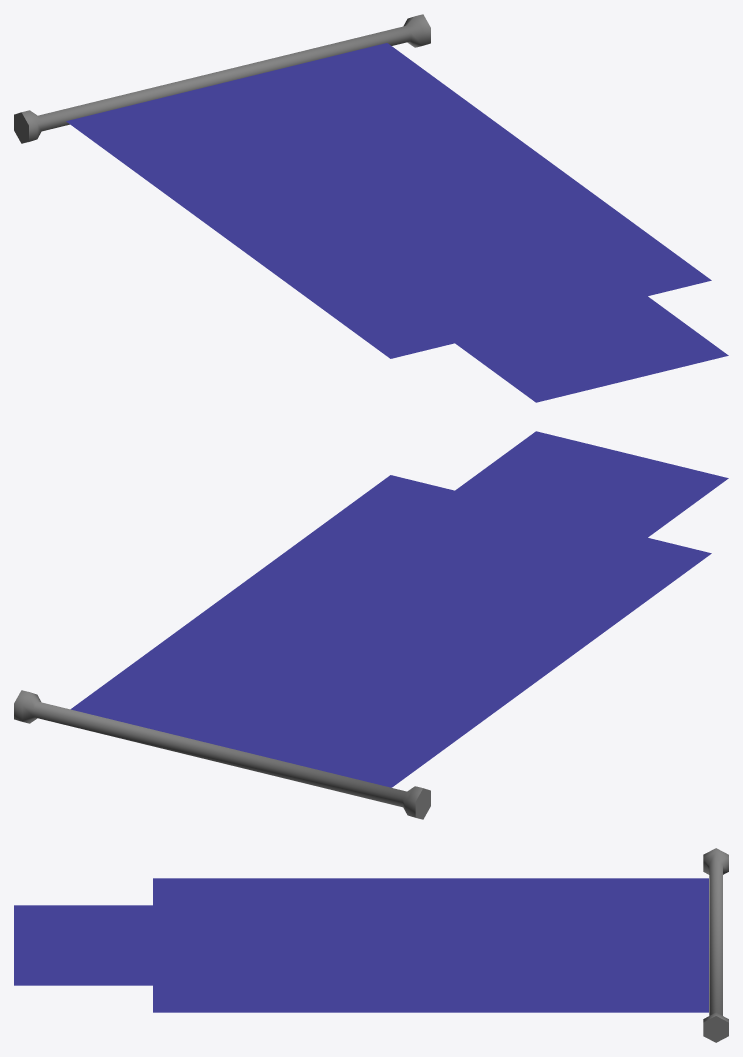
File: Banner.fbx
The picture shows the model from 3 angles, top to bottom: view 1: azimuth 30°, elevation 25°; view 2: azimuth 150°, elevation 25°; view 3: azimuth 270°, elevation 25°; orthographic projection. The views are drawn at different scales.
Parts seen in each view (by area): view 1: Bar; view 2: Bar; view 3: Bar.
Part boxes in pixels (<box>): Bar: <box>14,14,728,402</box>; Bar: <box>14,431,728,819</box>; Bar: <box>14,848,728,1042</box>.
Size of the model in its own units: 20 by 1.5 by 36.01.
